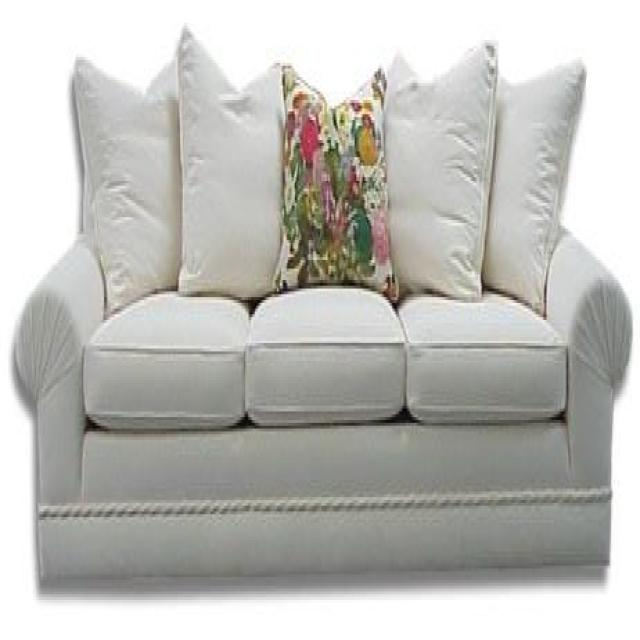sofa: (4, 124, 634, 582)
